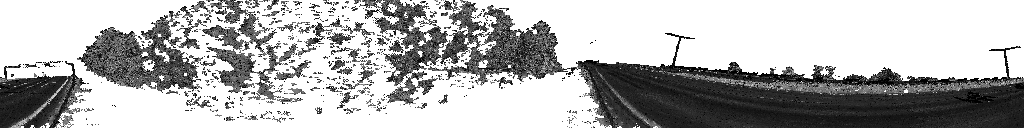gantry_sign_pole: (4, 61, 76, 79)
light_pole: (665, 34, 694, 73), (989, 47, 1020, 81)
